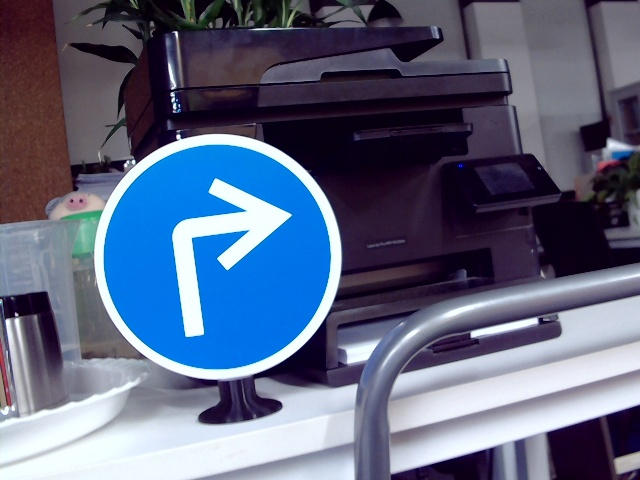turn_right: (157, 176, 288, 342)
